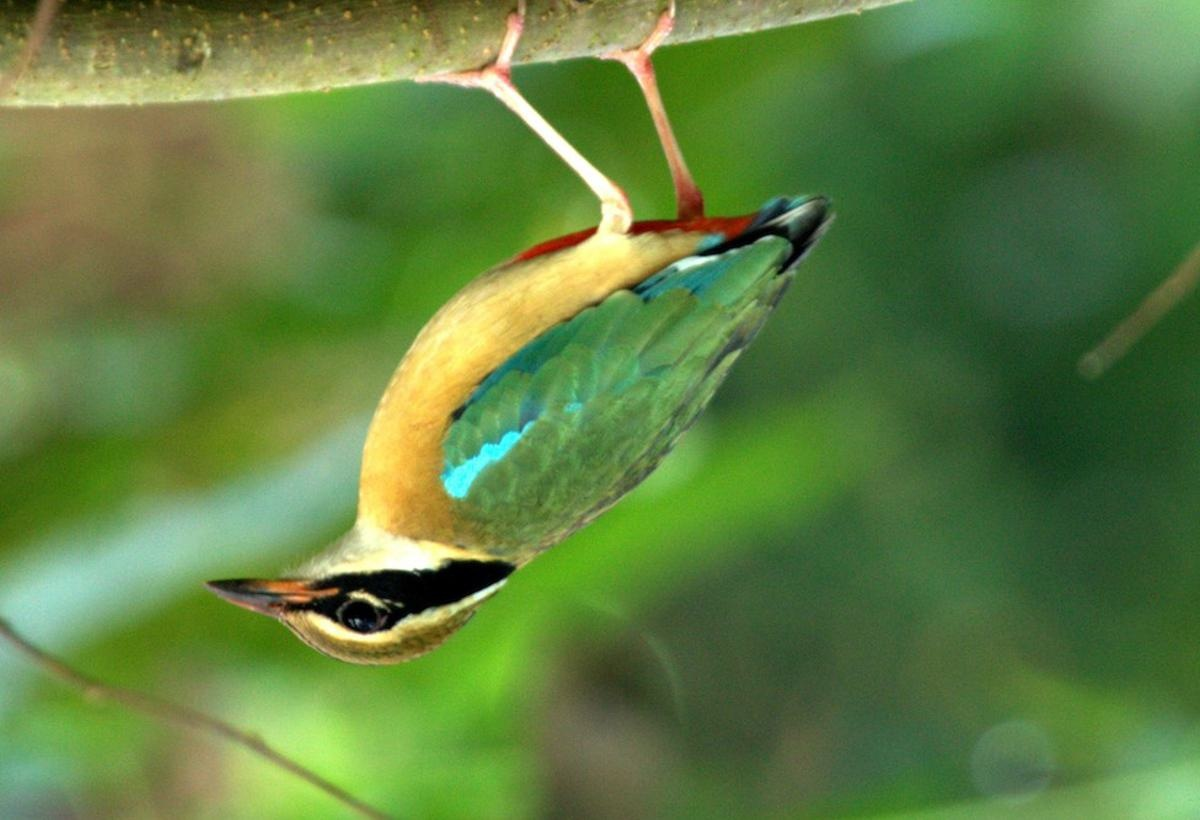pitta: (189, 128, 887, 691)
